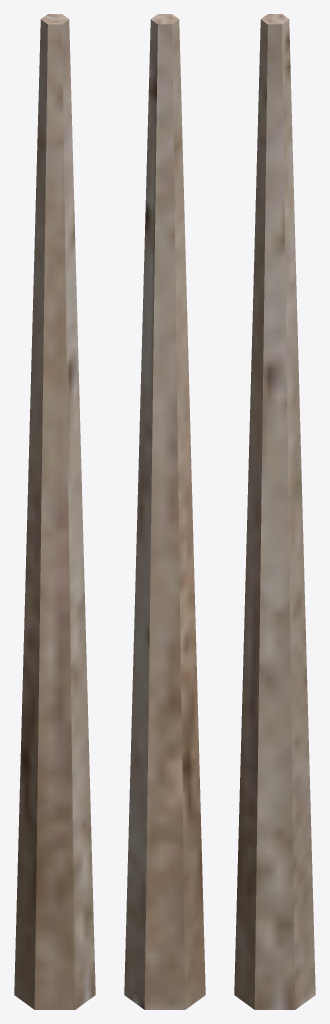
Rendered from wand1.obj.
The picture shows the model from 3 angles, left to right: view 1: azimuth 30°, elevation 25°; view 2: azimuth 150°, elevation 25°; view 3: azimuth 330°, elevation 25°; orthographic projection.
Parts seen in each view (by area): view 1: Mesh1 Model; view 2: Mesh1 Model; view 3: Mesh1 Model.
Boxes of the visible parts, <box> form: Mesh1 Model: <box>14,14,95,1009</box>; Mesh1 Model: <box>124,14,205,1009</box>; Mesh1 Model: <box>234,14,315,1009</box>.
Size of the model in its own units: 442 by 6740 by 510.
1 material, 1 textured.
